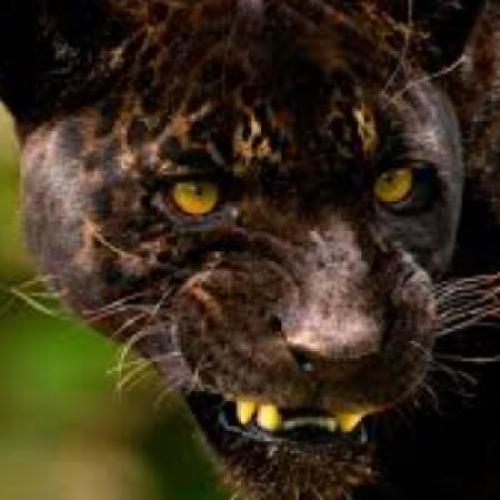panther-endangered: (9, 15, 484, 490)
